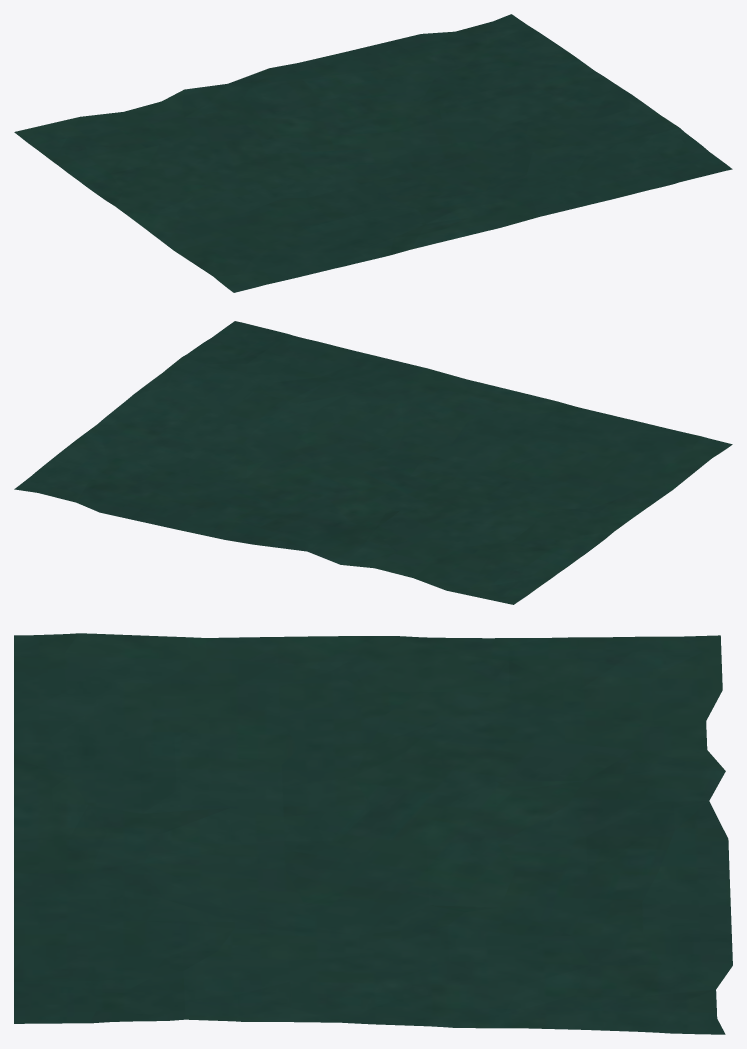
3 renders of one model, top to bottom at view 1: azimuth 30°, elevation 25°; view 2: azimuth 150°, elevation 25°; view 3: azimuth 270°, elevation 25°, orthographic. The views are drawn at different scales.
Bounding box in the file's own units: 52.22 × 1.03 × 40.53.
2 materials, 2 textured.
